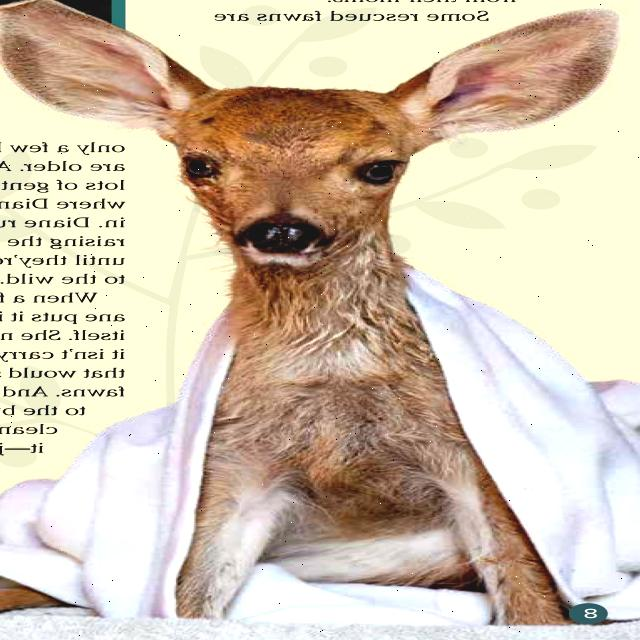deer: (0, 0, 640, 277)
